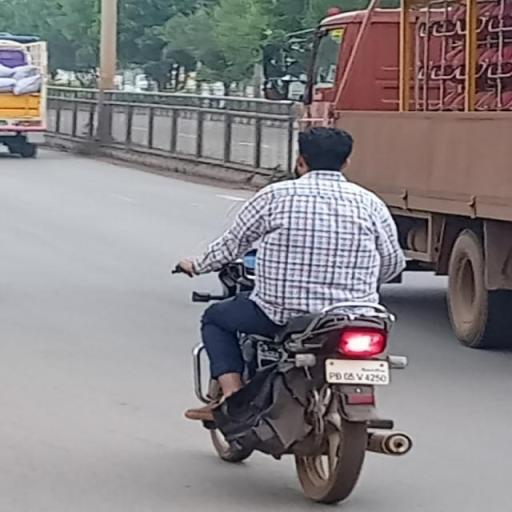bike: (168, 124, 429, 506)
numberplate: (326, 358, 391, 387)
withouthelmet: (296, 128, 354, 172)
